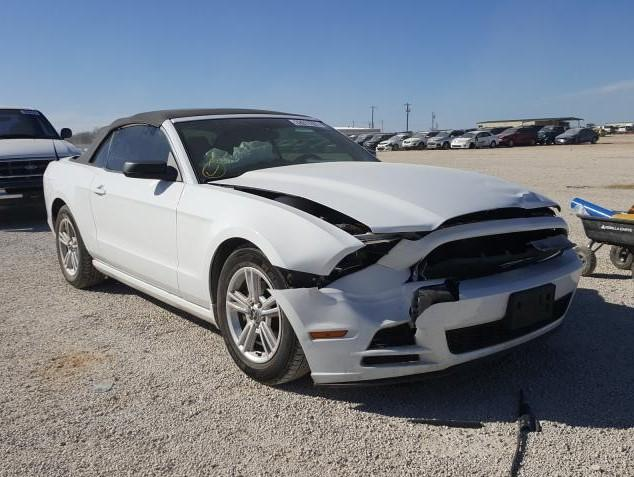Back-bumper: (47, 219, 55, 237)
Back-wheel: (55, 204, 106, 289)
Back-window: (89, 129, 114, 167)
Fender: (176, 182, 366, 309)
Front-bumper: (265, 217, 583, 387)
Front-door: (89, 122, 186, 296)
Front-wheel: (216, 245, 321, 386)
Front-window: (106, 124, 183, 182)
Hood: (205, 161, 561, 232)
Mirror: (123, 160, 177, 181)
Quarter-panel: (43, 161, 102, 257)
Rocker-panel: (92, 258, 219, 329)
Roof: (114, 109, 309, 121)
Tail-light: (309, 330, 348, 338)
Windshield: (171, 118, 382, 184)
